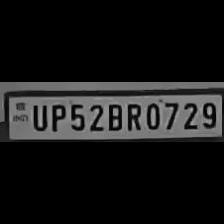0: (142, 100, 162, 130)
2: (178, 99, 198, 130), (86, 100, 104, 132)
5: (66, 100, 86, 132)
7: (161, 100, 179, 130)
9: (199, 99, 217, 129)
B: (104, 101, 122, 131)
P: (48, 101, 66, 131)
R: (124, 100, 142, 132)
U: (28, 101, 48, 131)
